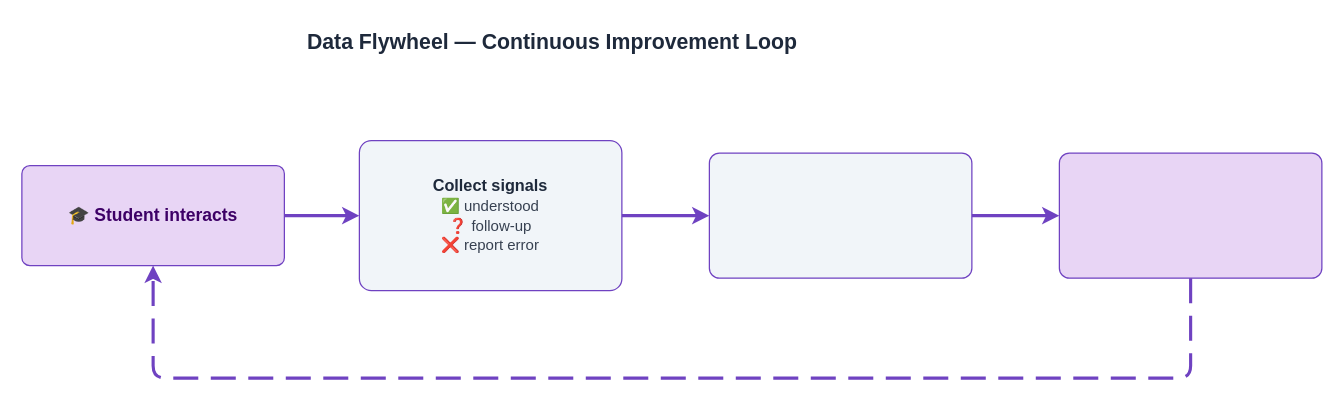
This 1344x411 diagram has some shape labels left out. Here are the shapes that lost their labels. From the top down, the box of each, then its label:
(708, 152, 972, 278): Weekly analysis accuracy · latency engagement
(1058, 152, 1322, 278): Improve system RAG index · prompts proactive threshold
